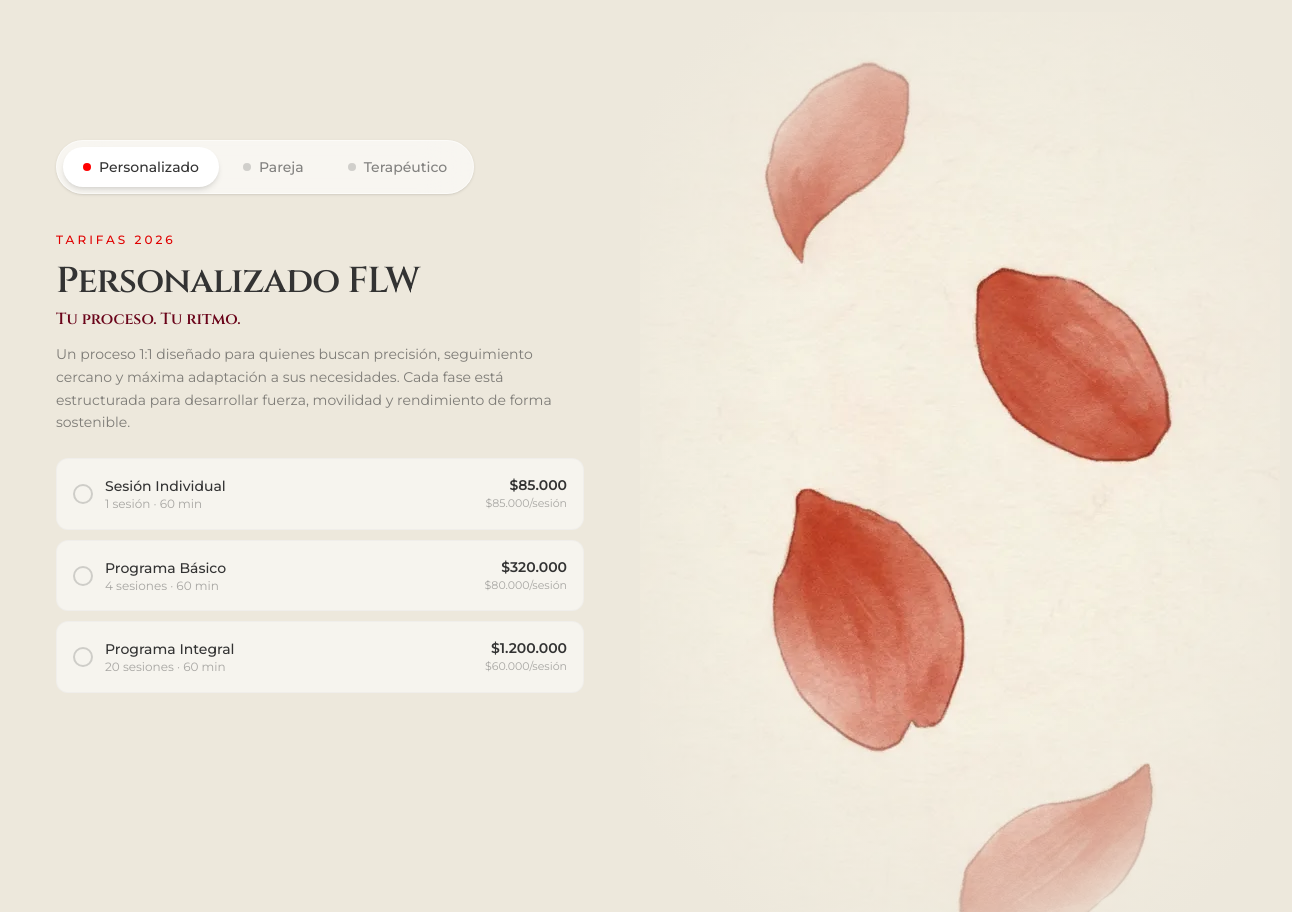
it: ProgramsPage › switches to Terapéutico when tab is clicked
The width and height of the screenshot is (1292, 912).
Expected: the text "Sesión Individual" is shown, [105,476,226,496]
Click the button "Terapéutico" at (398, 167), box [328,147,467,187]
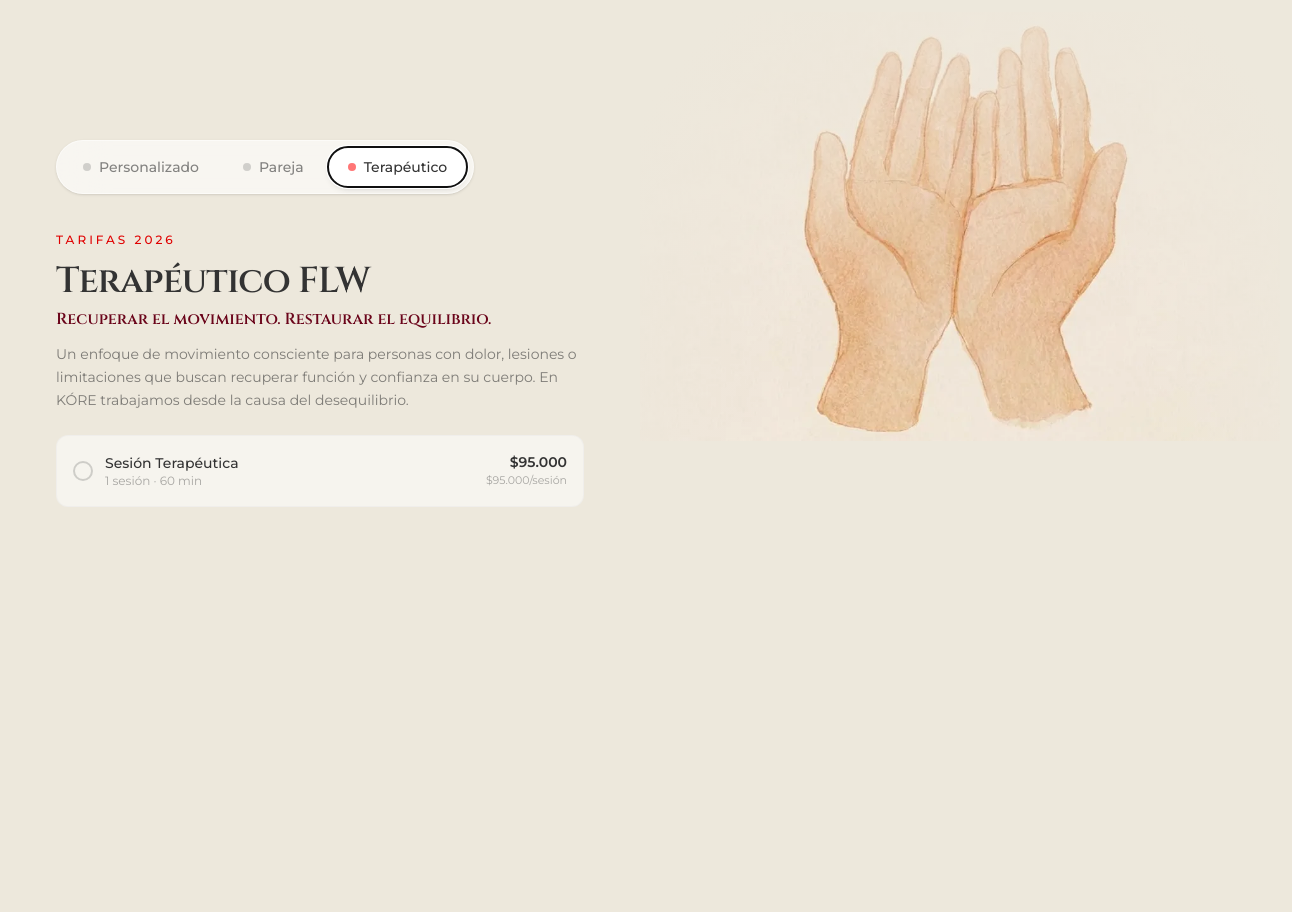
Result: the heading "Terapéutico FLW" is shown at [56,257,370,305]
Result: the text "Recuperar el movimiento. Restaurar el equilibrio." is shown at [56,308,491,330]
